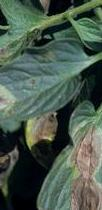Tomato leaf late blight: (24, 51, 102, 210), (0, 44, 97, 129)
